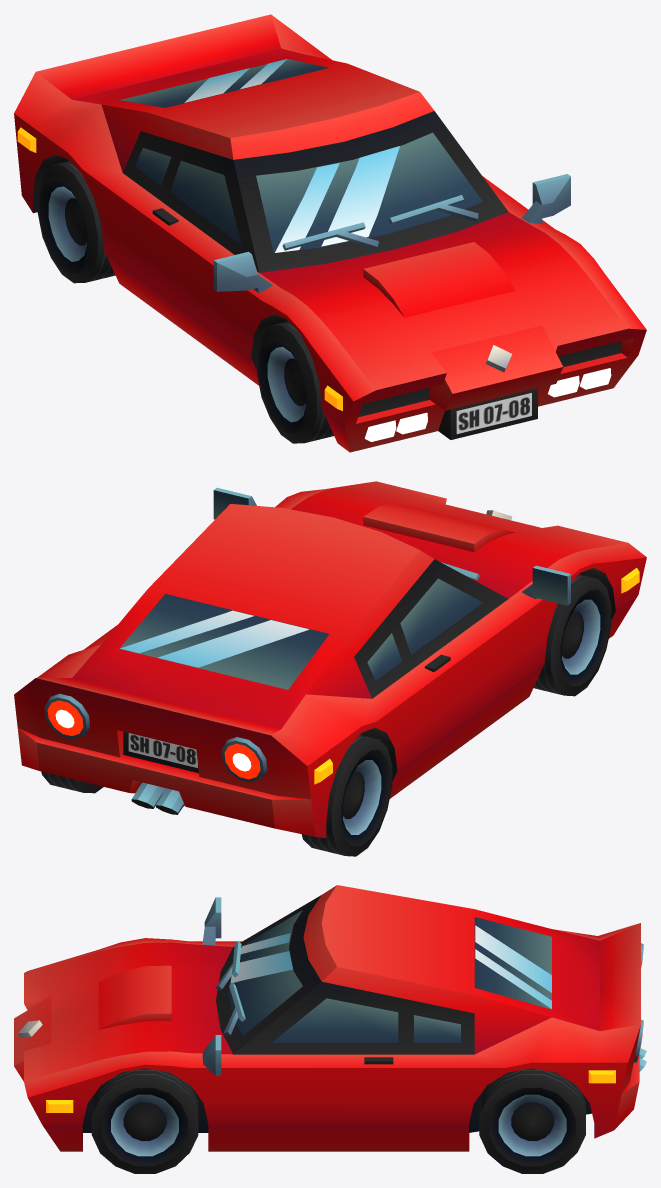
The model's file is Sport_Car_01.fbx.
3 renders of one model, top to bottom at view 1: azimuth 30°, elevation 25°; view 2: azimuth 150°, elevation 25°; view 3: azimuth 270°, elevation 25°, orthographic. The views are drawn at different scales.
Visible parts, largest first — view 1: Sport_Car_01; view 2: Sport_Car_01; view 3: Sport_Car_01.
Boxes of the visible parts, box(x1,y1,x2,y2) form: Sport_Car_01: box(14, 14, 646, 452); Sport_Car_01: box(14, 481, 646, 856); Sport_Car_01: box(14, 885, 646, 1173).
Size of the model in its own units: 2.41 by 1.38 by 4.22.
Materials: 2 (2 with a texture image).
